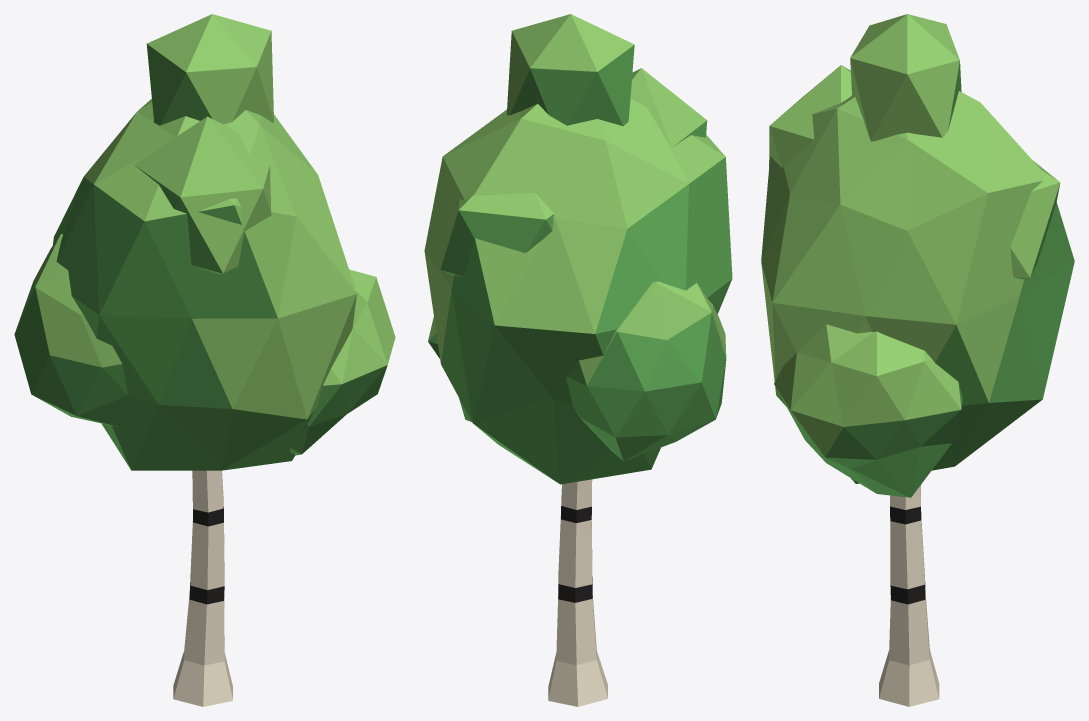
Rendered from tree_broadleaf_c.glb.
3 renders of one model, left to right at view 1: azimuth 30°, elevation 25°; view 2: azimuth 150°, elevation 25°; view 3: azimuth 270°, elevation 25°, orthographic.
Visible parts, largest first — view 1: tree_broadleaf_c; view 2: tree_broadleaf_c; view 3: tree_broadleaf_c.
Boxes of the visible parts, x1,y1,x2,y2 form: tree_broadleaf_c: [14, 14, 395, 706]; tree_broadleaf_c: [424, 14, 732, 706]; tree_broadleaf_c: [761, 14, 1074, 706].
Bounding box in the file's own units: 3.59 × 7.37 × 3.07.
